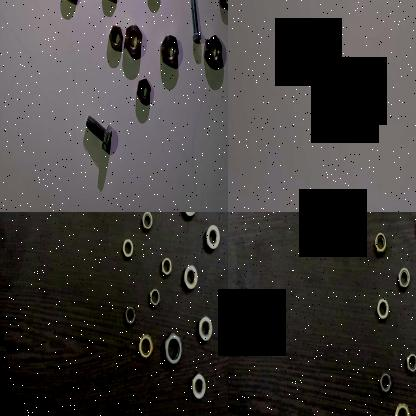Bolts: (84, 109, 113, 156), (187, 0, 199, 43)
NUTS: (162, 329, 184, 369), (122, 21, 144, 58), (201, 32, 223, 69), (160, 31, 178, 69), (136, 325, 154, 362), (196, 310, 214, 345), (188, 370, 207, 402), (134, 74, 152, 107), (204, 220, 222, 252), (182, 259, 199, 289), (375, 294, 390, 325), (108, 21, 122, 51), (376, 370, 392, 396), (119, 235, 134, 260), (394, 267, 410, 289), (160, 251, 172, 278), (392, 398, 409, 416), (141, 212, 153, 233), (374, 231, 386, 251), (215, 0, 228, 13), (181, 212, 197, 219)
